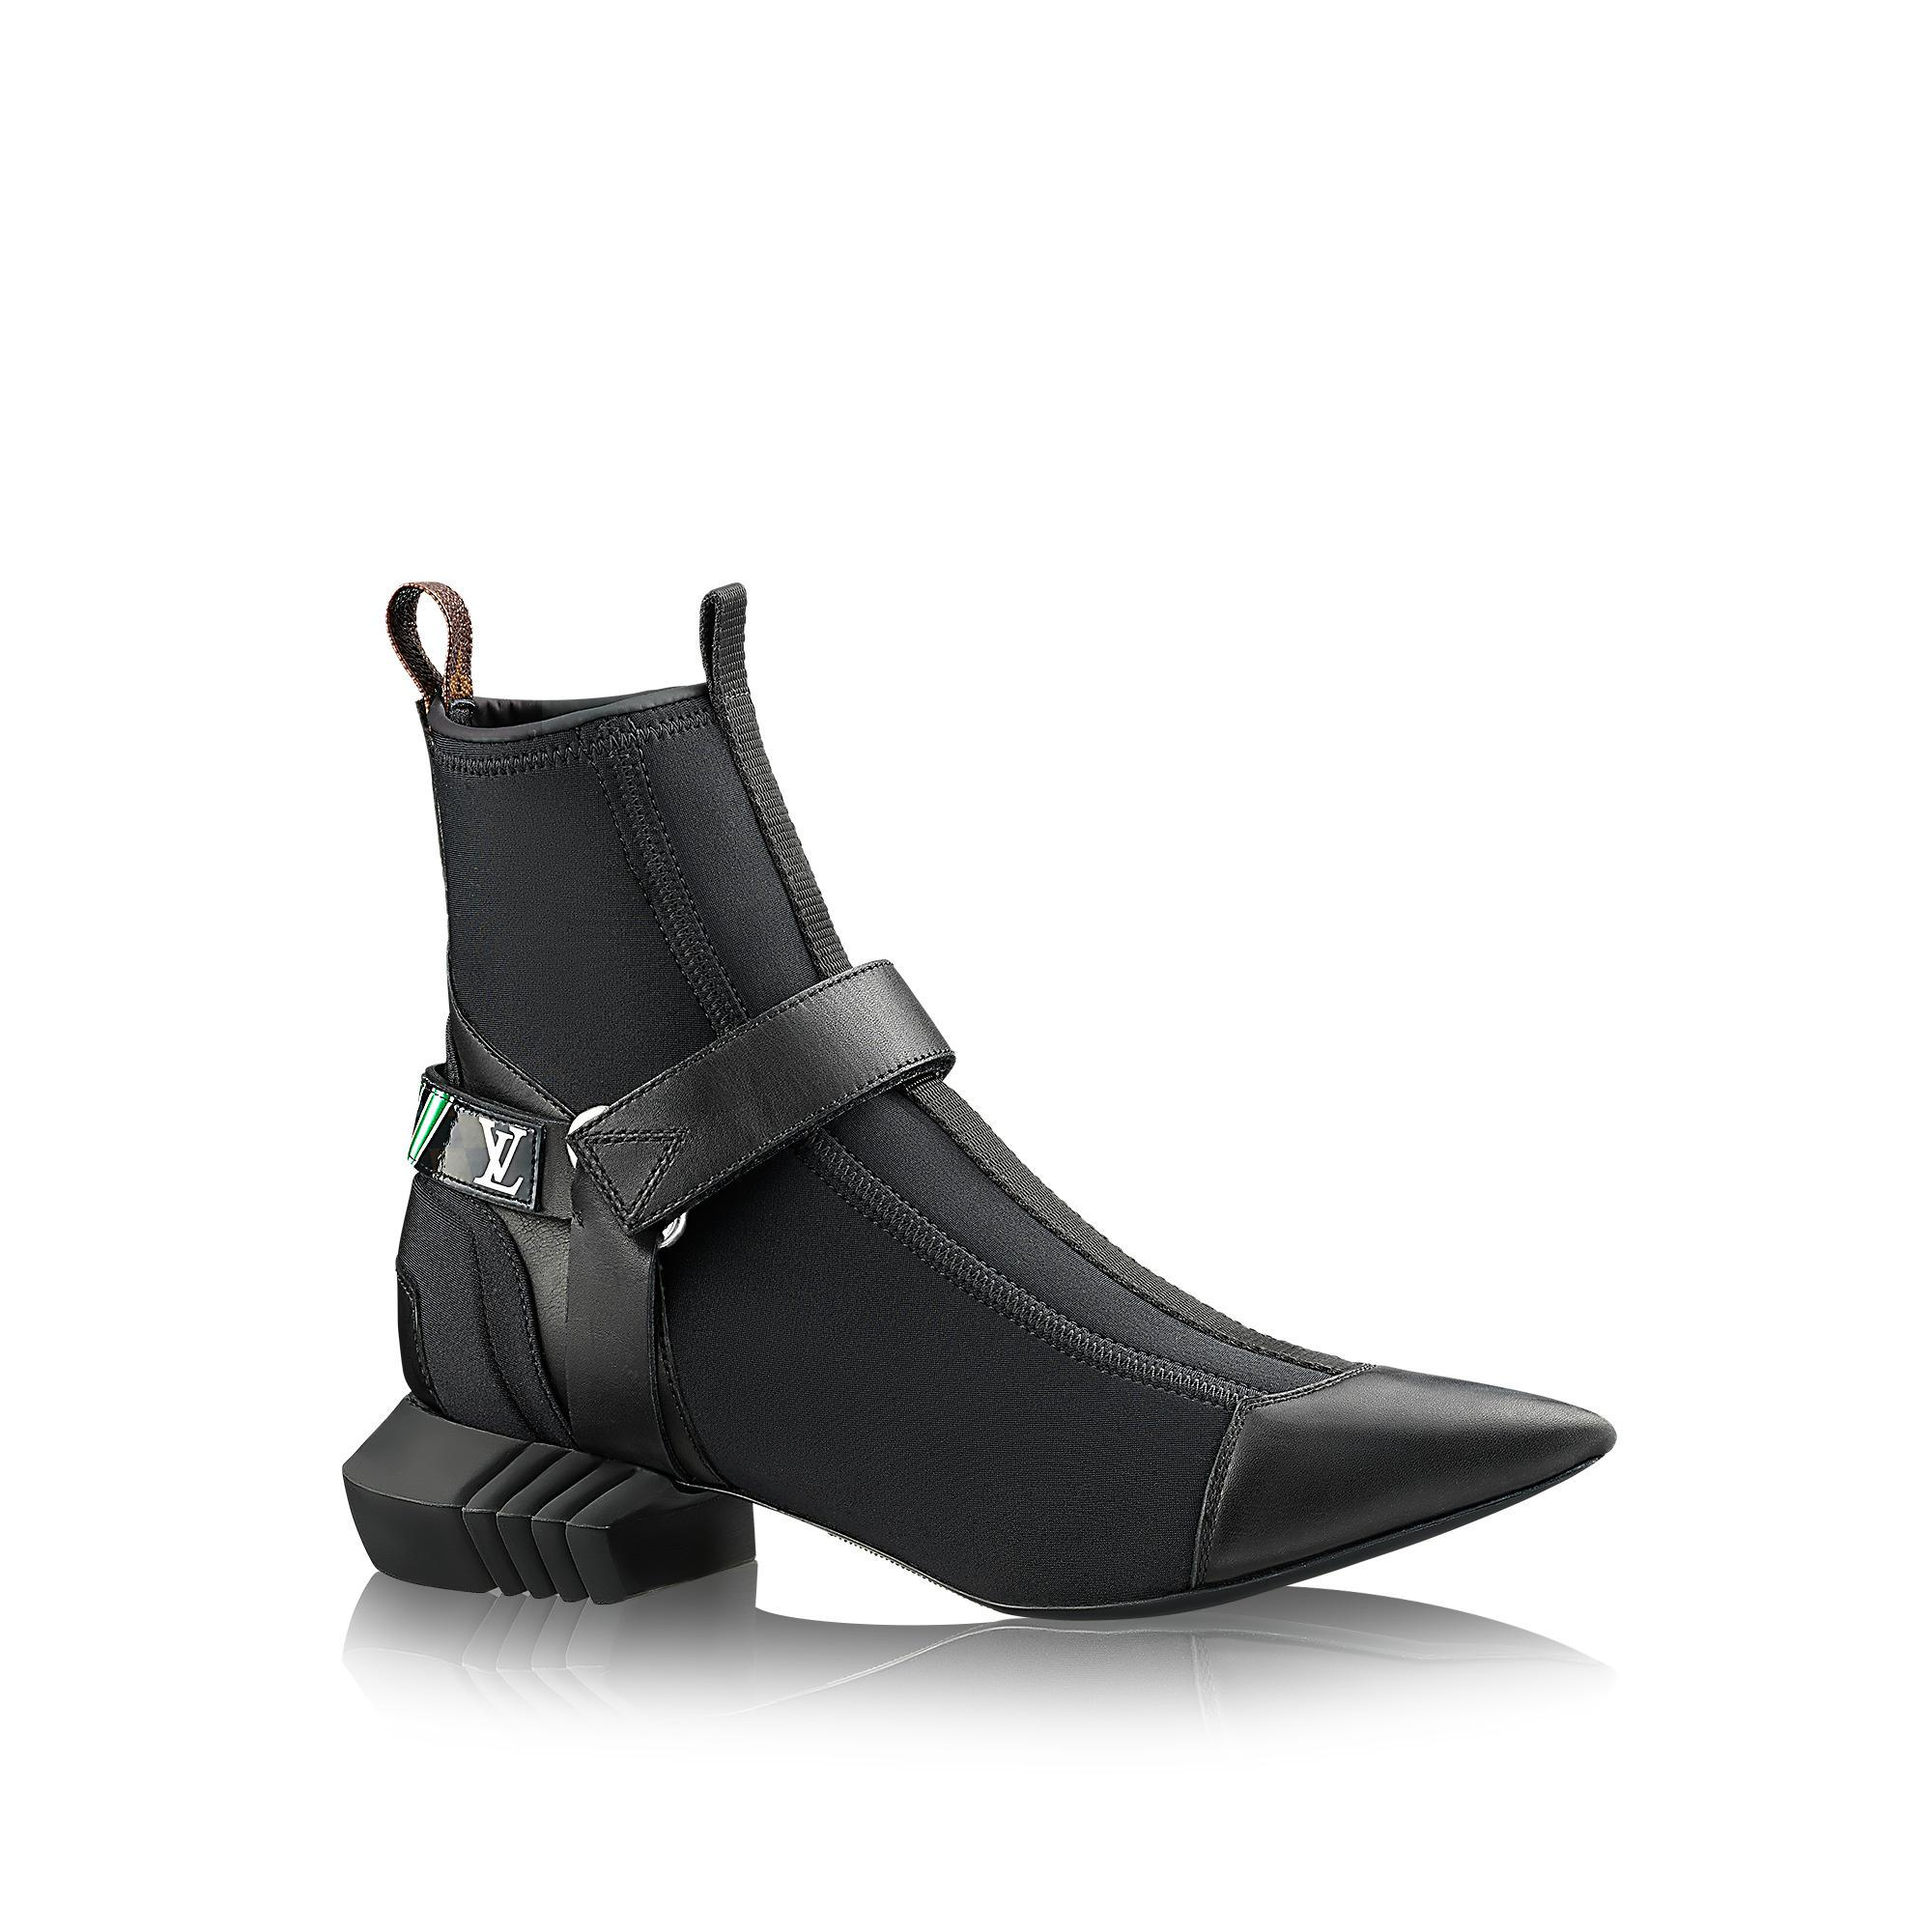LOUIS-VUITTON: (469, 1109, 531, 1196)
